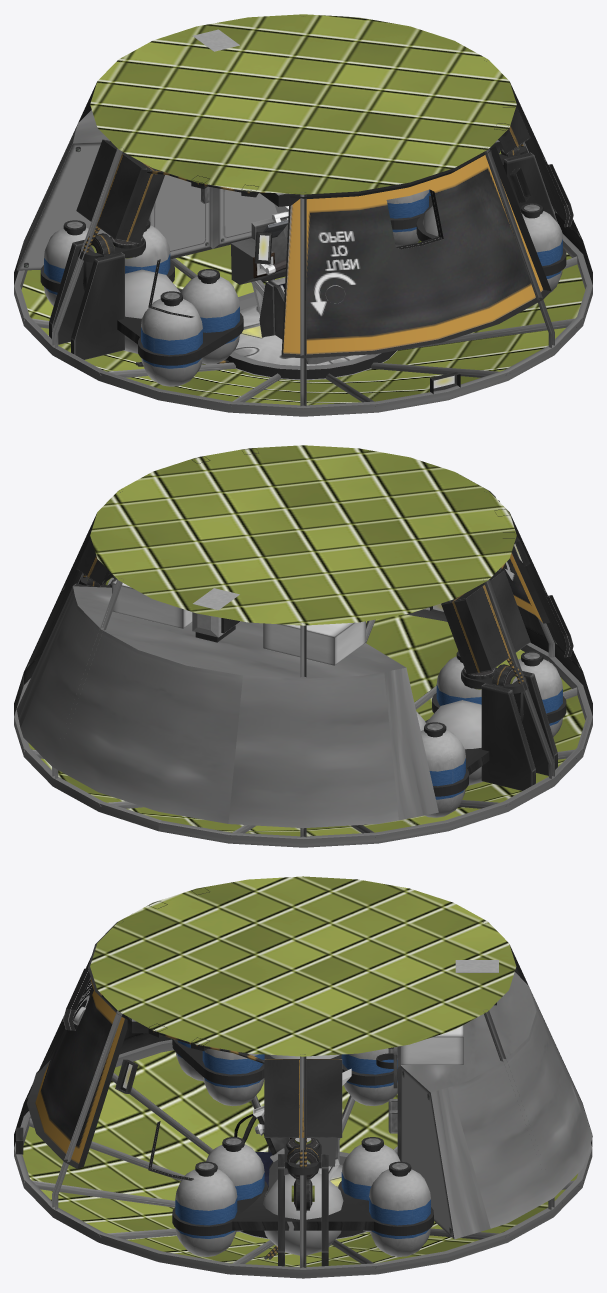
The model's file is BackseatSpace.FBX.
3 renders of one model, top to bottom at view 1: azimuth 30°, elevation 25°; view 2: azimuth 150°, elevation 25°; view 3: azimuth 270°, elevation 25°, orthographic.
Parts seen in each view (by area): view 1: InternalEndCaps, CrewHatch, BackWall, StorageLocker, Tube001, AvionicsBox001, GyroBrace001, InternalBtmHatch, AirTank001, AirTank005, Seat002, BackseatInternal (+18 smaller); view 2: StorageLocker, InternalEndCaps, BackWall, Tube001, AvionicsBox001, GyroBrace002, BackseatInternal, HVAC002, AirTank004, MonoTank002, HVAC001, GyroBrace001 (+6 smaller); view 3: InternalEndCaps, StorageLocker, BackWall, CrewHatch, Tube001, AvionicsBox002, AirTank003, AirTank002, MonoTank001, MonoBracket001, AirTank007, AirTank006 (+20 smaller).
Boxes of the visible parts, x1,y1,x2,y2 form: InternalEndCaps: (90,14,516,380); CrewHatch: (281,146,551,358); BackWall: (21,240,585,405); StorageLocker: (16,110,277,270); Tube001: (14,233,592,416); AvionicsBox001: (76,139,164,244); GyroBrace001: (71,252,124,359); InternalBtmHatch: (226,292,396,379); AirTank001: (141,291,202,386); AirTank005: (181,269,239,364); Seat002: (251,218,350,364); BackseatInternal: (14,82,592,327); StorageLocker: (16,586,438,828); InternalEndCaps: (90,445,516,625); BackWall: (28,614,585,836); Tube001: (14,607,592,847); AvionicsBox001: (441,570,530,675); GyroBrace002: (481,683,535,790); BackseatInternal: (14,513,592,758); HVAC002: (263,621,365,665); AirTank004: (420,722,465,817); MonoTank002: (426,700,482,785); HVAC001: (112,579,192,628); GyroBrace001: (522,671,557,775); InternalEndCaps: (90,876,516,1239); StorageLocker: (397,972,592,1239); BackWall: (22,1050,577,1266); CrewHatch: (27,919,127,1168); Tube001: (14,1039,592,1278); AvionicsBox002: (264,1059,342,1137); AirTank003: (369,1161,430,1256); AirTank002: (175,1161,237,1256); MonoTank001: (263,1173,343,1255); MonoBracket001: (232,1189,374,1230); AirTank007: (341,1137,400,1231); AirTank006: (206,1137,264,1231).
Size of the model in its own units: 1.86 by 0.8317 by 1.86.
Materials: 3 (3 with a texture image).
